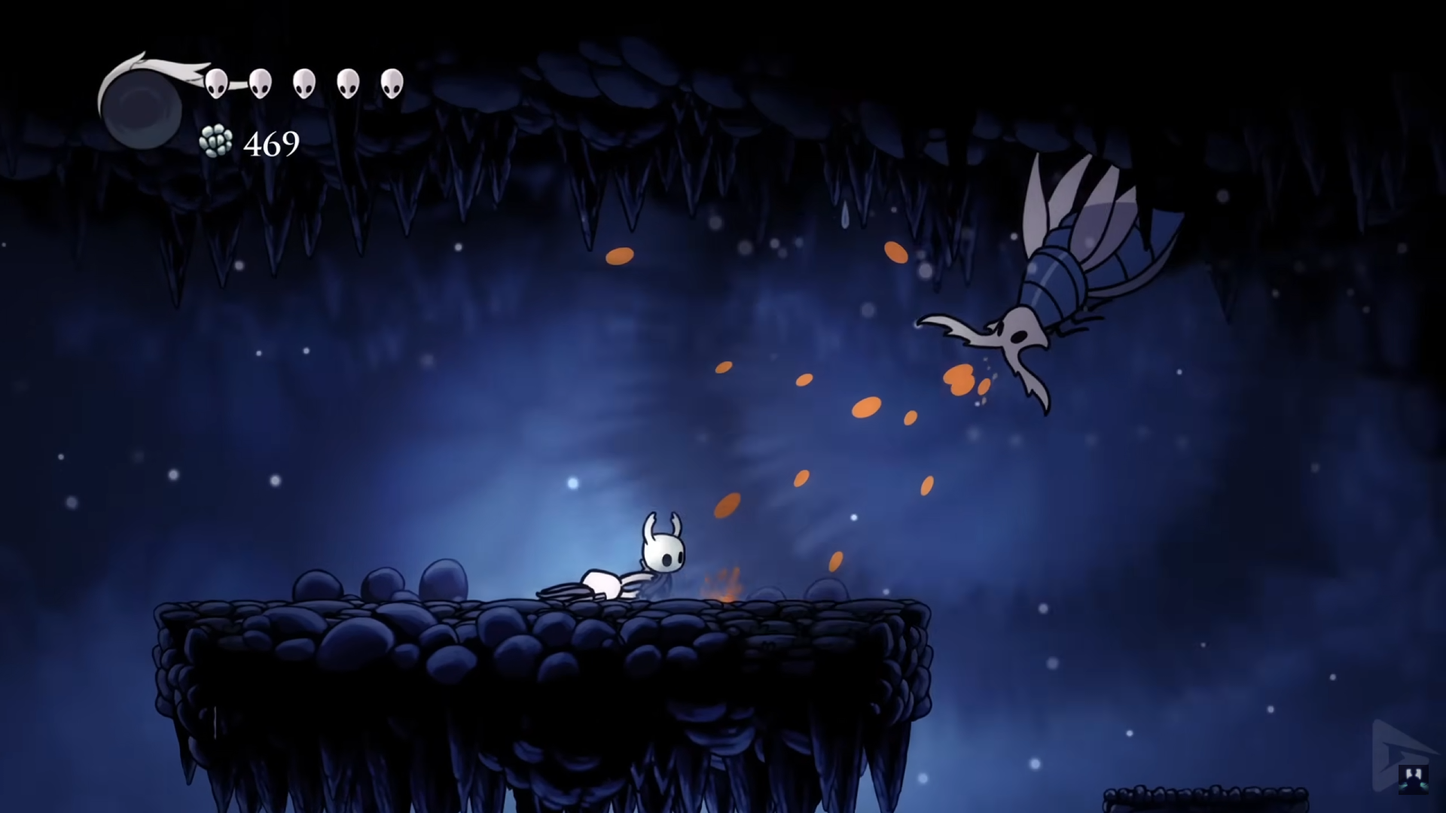HK: (629, 509, 691, 601)
